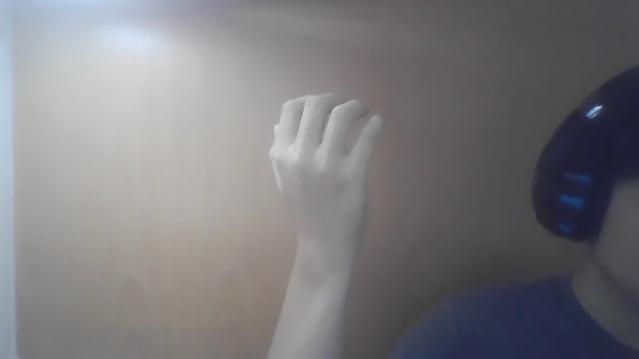backword: (265, 91, 385, 357)
